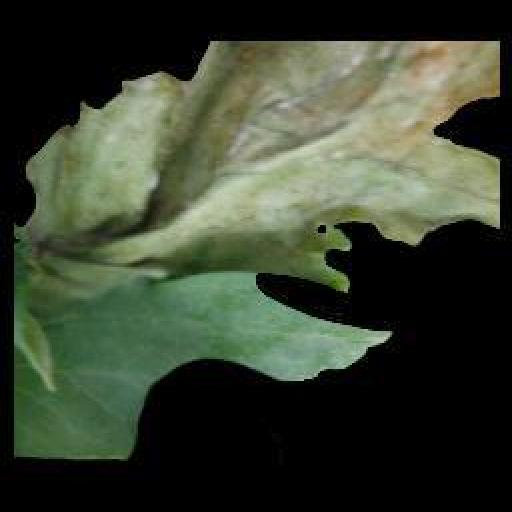disease_tomato: (18, 41, 500, 459)
